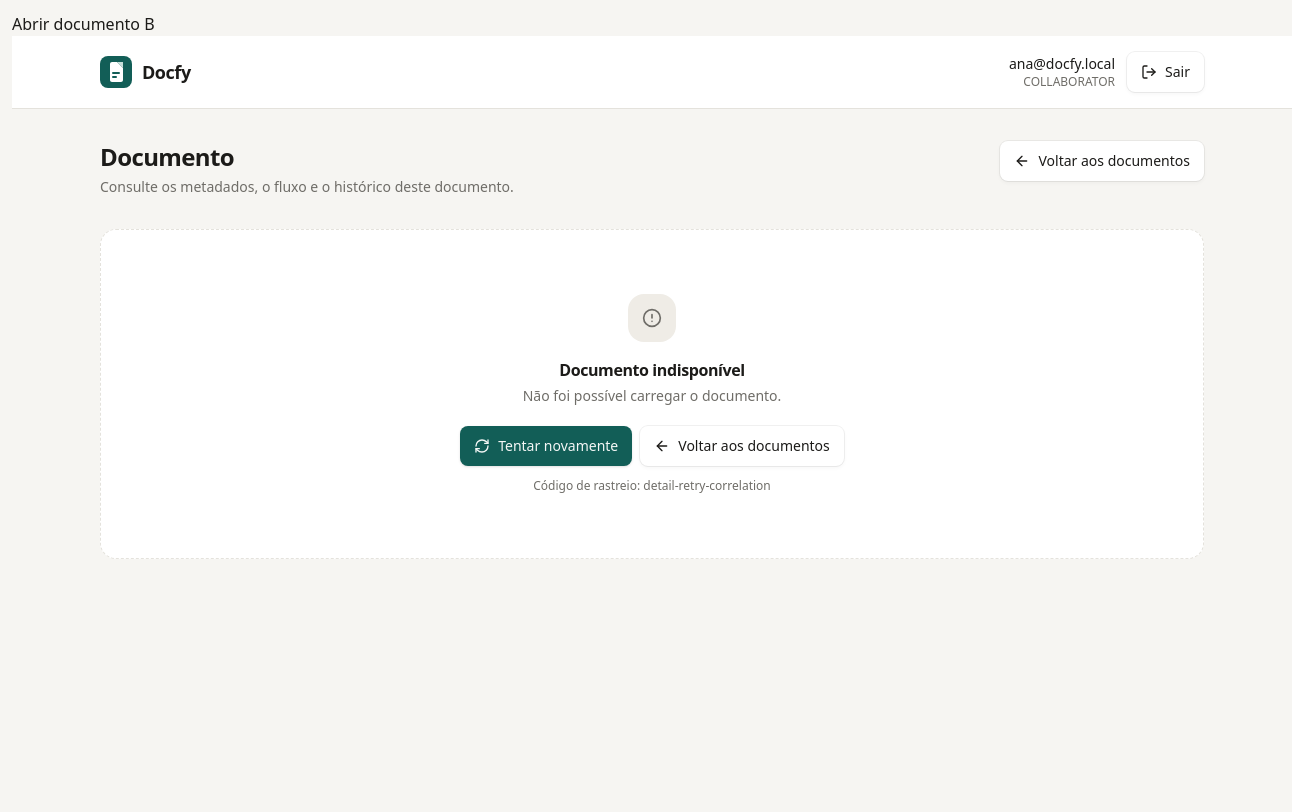
Test: DocumentDetailPage loading and detail › retries a failed detail request
Expected: the text "Não foi possível carregar o documento." is shown, left=523, top=386, right=781, bottom=406
Expected: the text "Código de rastreio: detail-retry-correlation" is shown, left=533, top=477, right=771, bottom=494
Click the button "Tentar novamente". click: (546, 446)
box: left=460, top=426, right=632, bottom=466
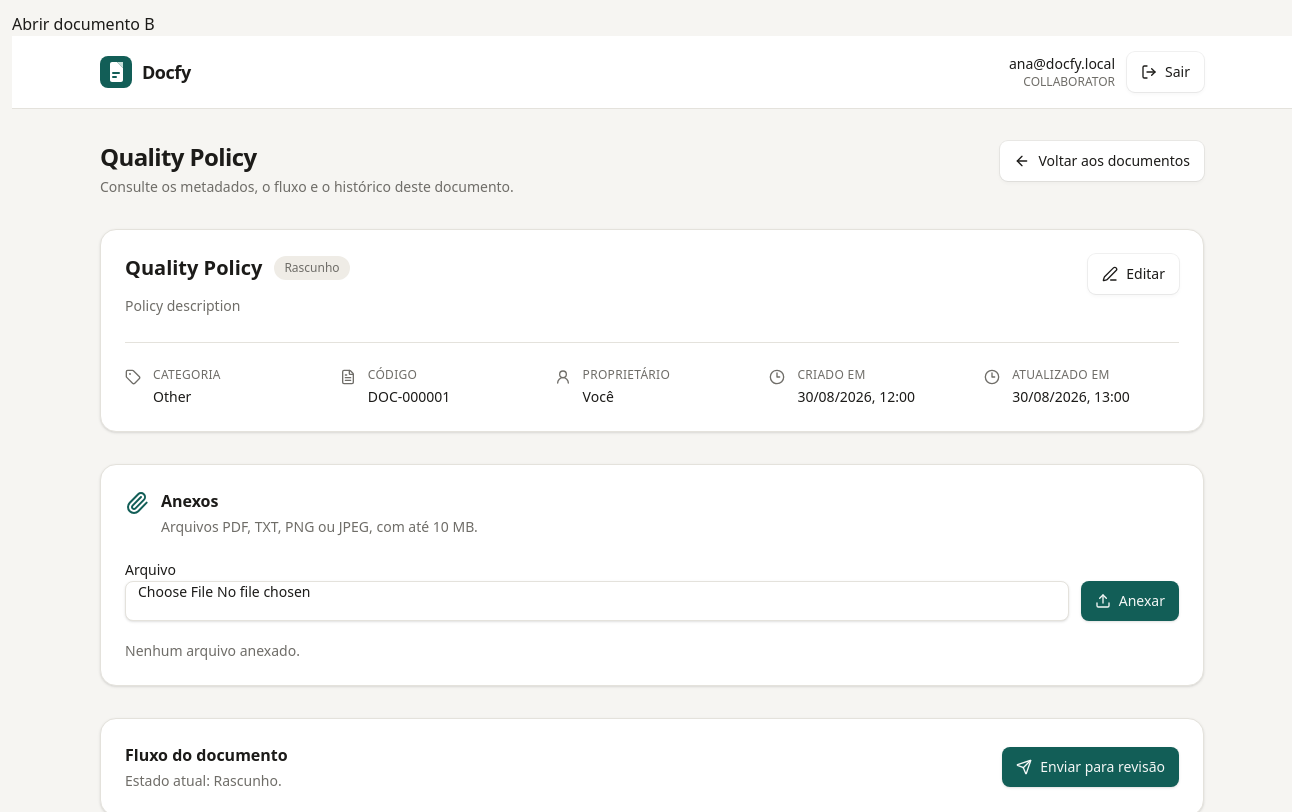
Now the heading "Quality Policy" in the row of "Voltar aos documentos" is shown, box left=100, top=140, right=256, bottom=173
